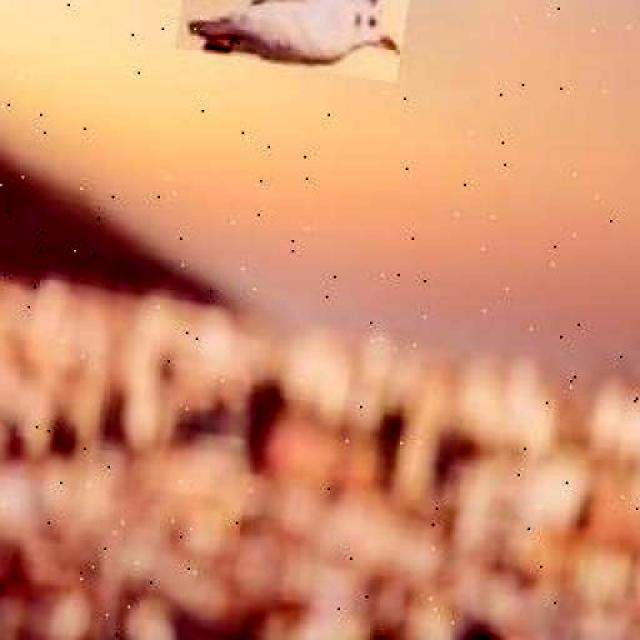airplane: (175, 0, 435, 82)
